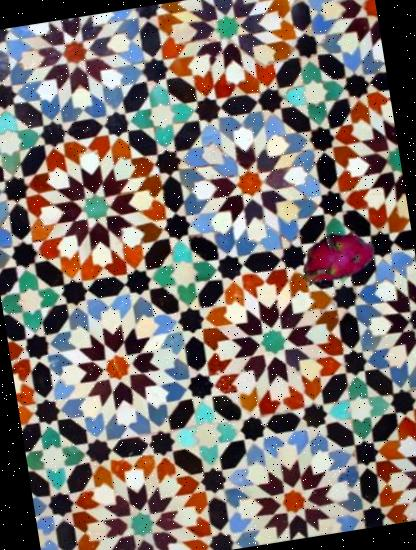Pitahaya: (292, 214, 384, 306)
